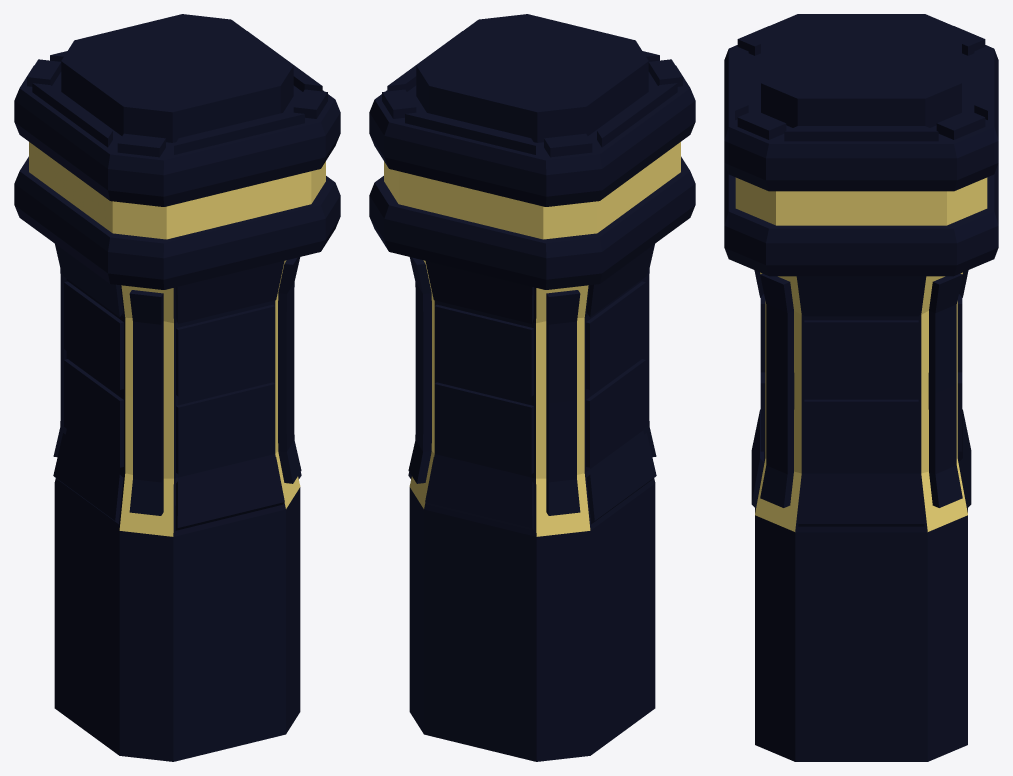
The model's file is building4.fbx.
3 views of the same model, side by side, from view 1: azimuth 30°, elevation 25°; view 2: azimuth 150°, elevation 25°; view 3: azimuth 270°, elevation 25° (orthographic). The views are drawn at different scales.
Parts seen in each view (by area): view 1: Cube.066; view 2: Cube.066; view 3: Cube.066.
Part boxes in pixels (left/top/right/bottom): Cube.066: left=14, top=14, right=340, bottom=761; Cube.066: left=369, top=14, right=695, bottom=761; Cube.066: left=724, top=14, right=998, bottom=761.
Bounding box in the file's own units: 1891 × 5024 × 1891.
